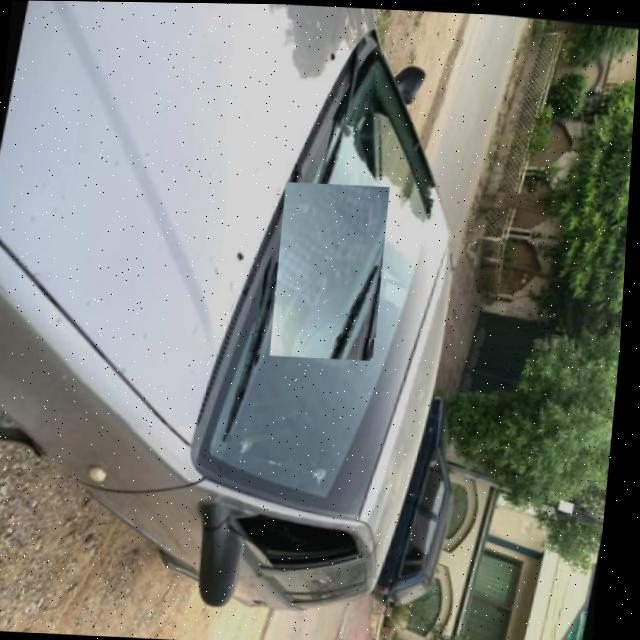no-seatbelt: (273, 179, 392, 360)
